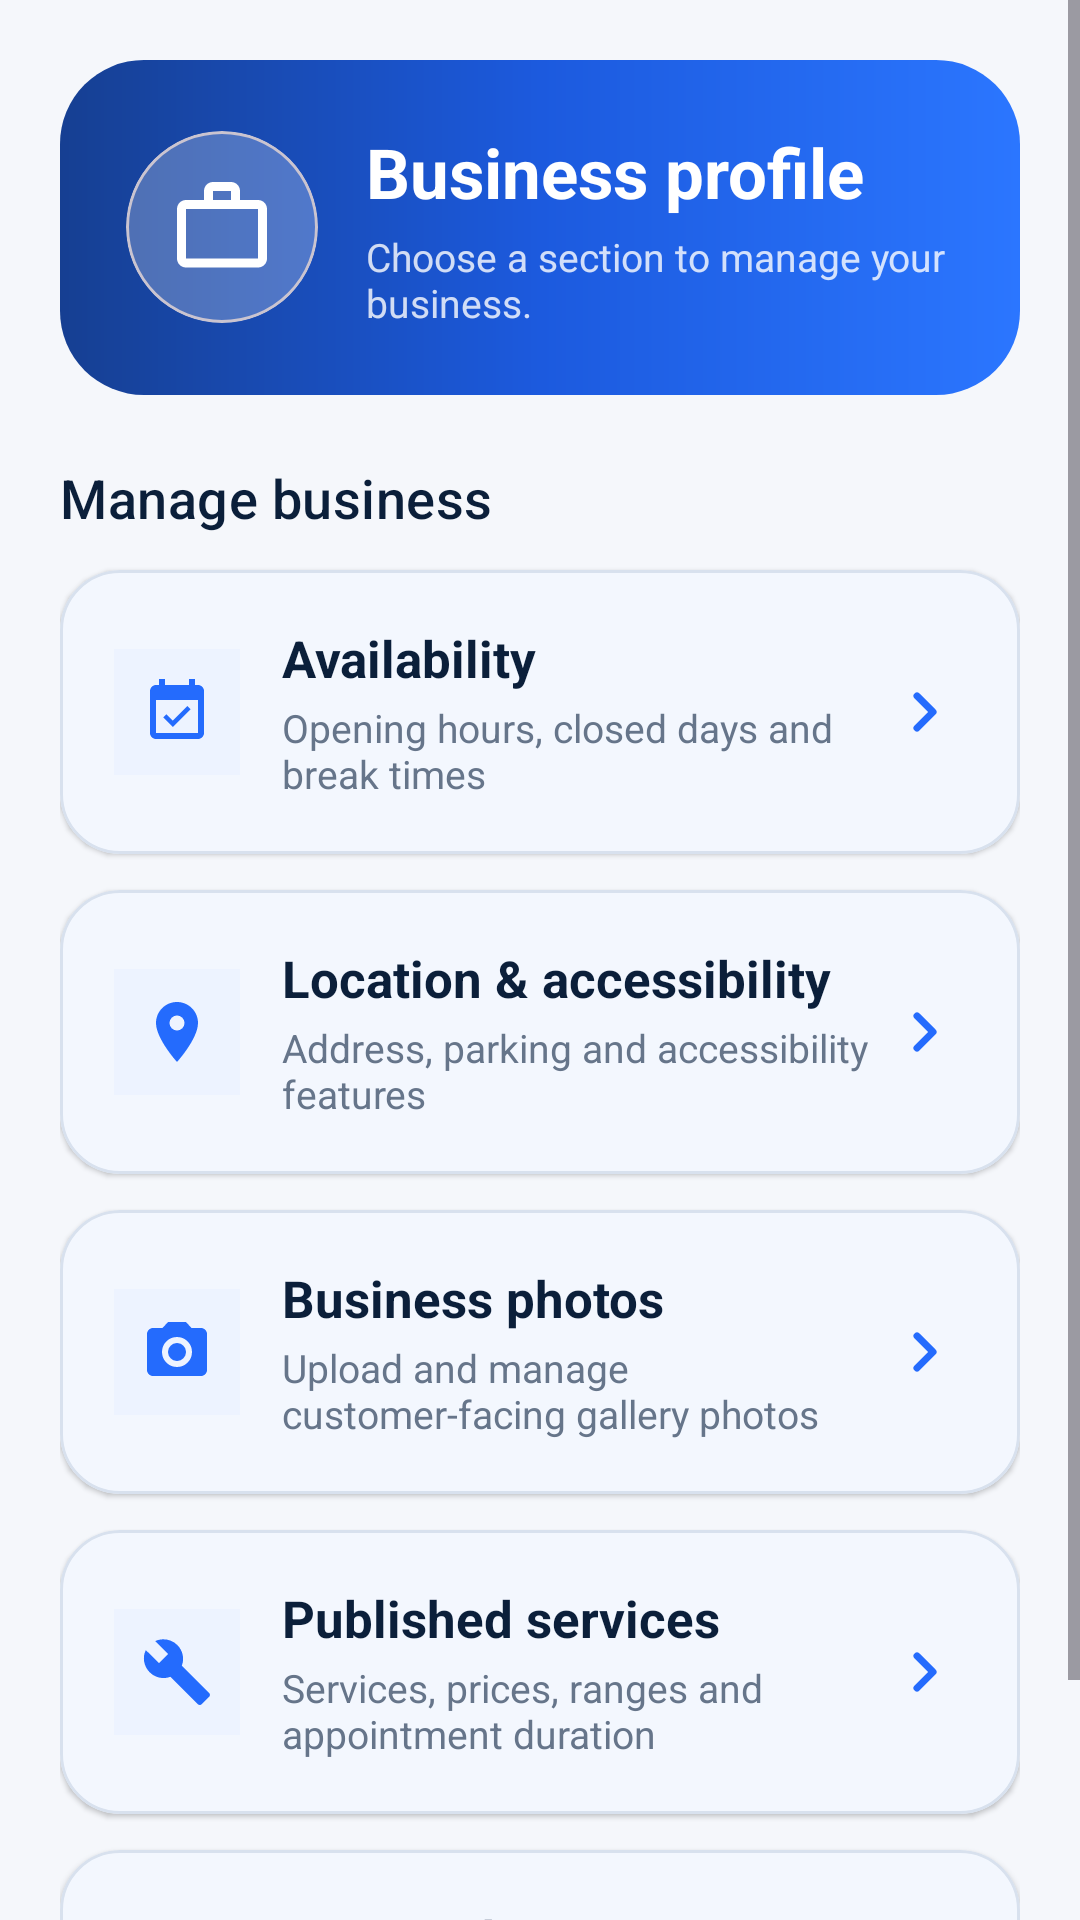

Screen size 1080px×1920px. Icon name, then its box in pixels as (x1, y1, x2, y2):
appointments: (150, 679, 204, 739)
camera: (147, 1322, 207, 1376)
chevron forward: (913, 692, 937, 732), (913, 1012, 937, 1052), (913, 1332, 937, 1372), (913, 1652, 937, 1692)
